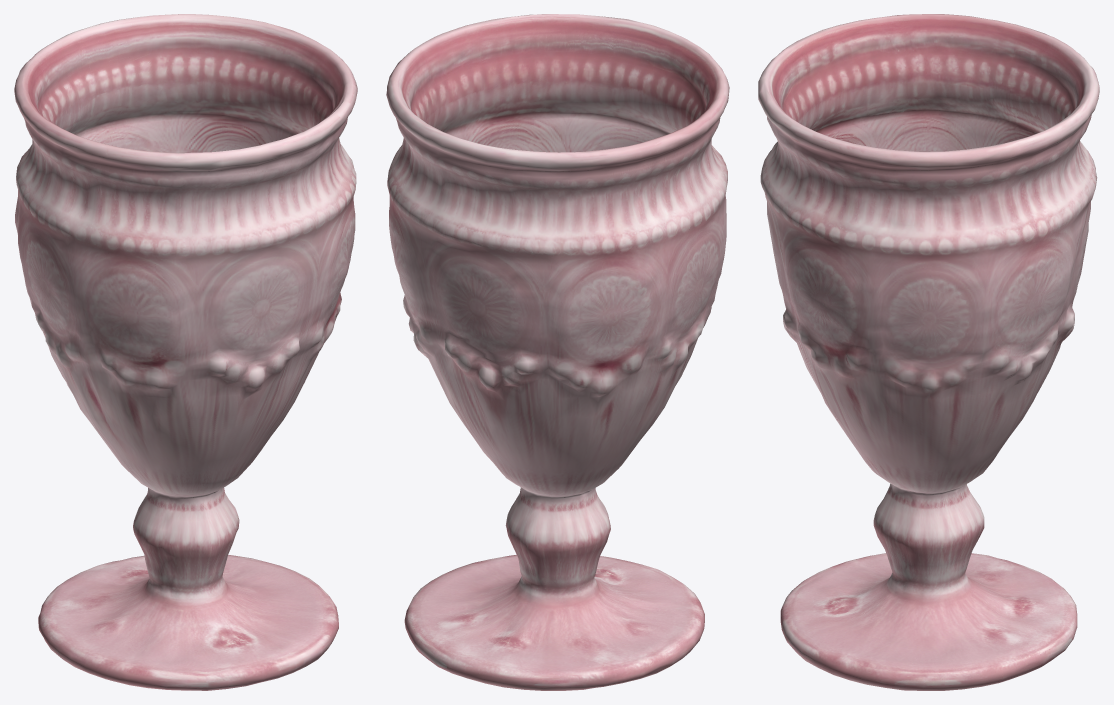
The model's file is Glass_Goblet_Vintage_10InchesTall_TableTop_0222192555_texture.glb.
3 renders of one model, left to right at view 1: azimuth 30°, elevation 25°; view 2: azimuth 150°, elevation 25°; view 3: azimuth 270°, elevation 25°, orthographic.
Parts seen in each view (by area): view 1: Mesh_0.001; view 2: Mesh_0.001; view 3: Mesh_0.001.
Boxes of the visible parts, x1,y1,x2,y2 form: Mesh_0.001: [14, 14, 357, 690]; Mesh_0.001: [386, 14, 729, 690]; Mesh_0.001: [758, 14, 1099, 690].
Size of the model in its own units: 0.1434 by 0.254 by 0.1434.
1 material, 1 textured.
